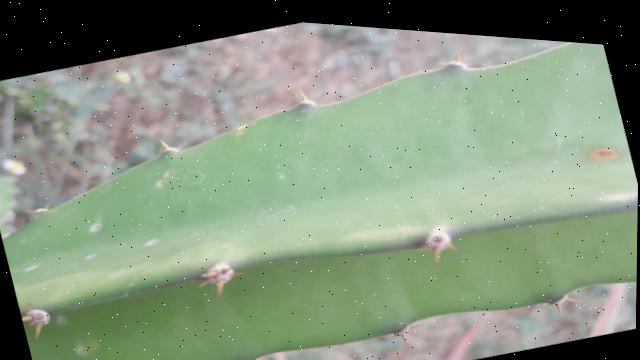stemcanker: (587, 145, 625, 165)
